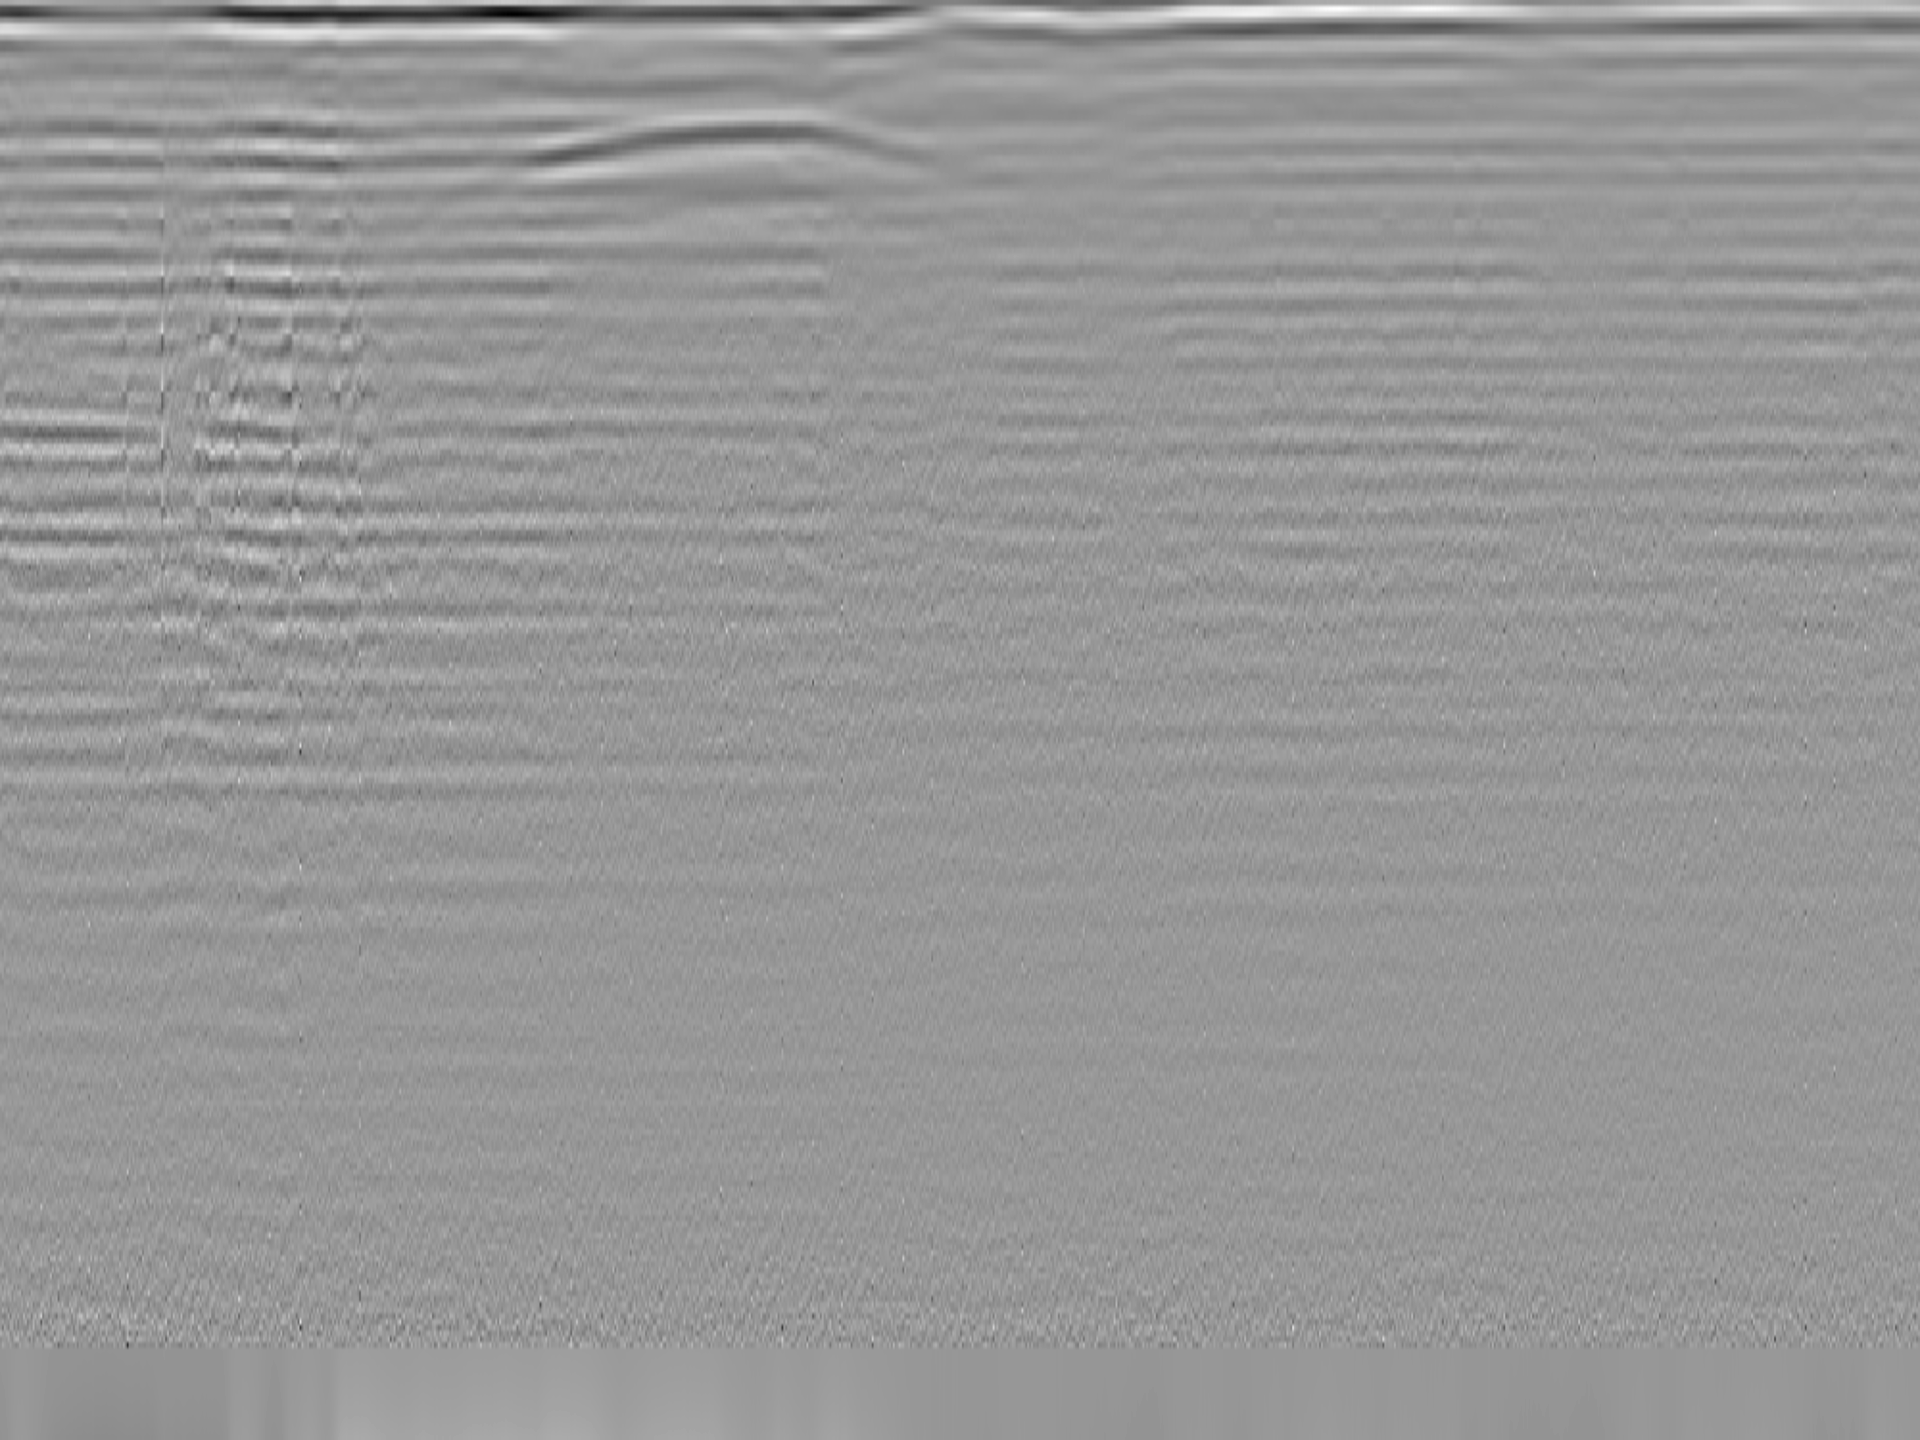Tunnel: (497, 112, 969, 175)
